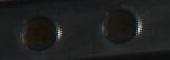holes: (19, 13, 63, 53), (99, 5, 143, 45)
joints: (19, 13, 63, 53), (99, 6, 143, 45)
